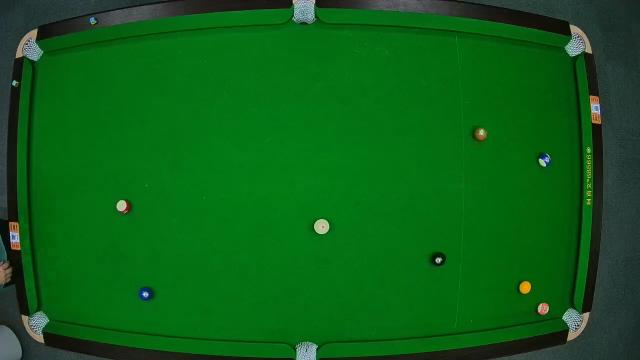bag1: (20, 40, 42, 62)
bag2: (292, 2, 316, 26)
bag4: (29, 311, 49, 333)
bag5: (294, 340, 318, 360)
bag6: (562, 308, 582, 330)
ball0: (314, 219, 331, 235)
ball1: (518, 280, 534, 296)
ball10: (536, 153, 552, 169)
ball11: (115, 198, 129, 214)
ball12: (537, 301, 551, 315)
ball2: (139, 285, 155, 301)
ball7: (474, 127, 488, 141)
ball8: (432, 252, 448, 268)
